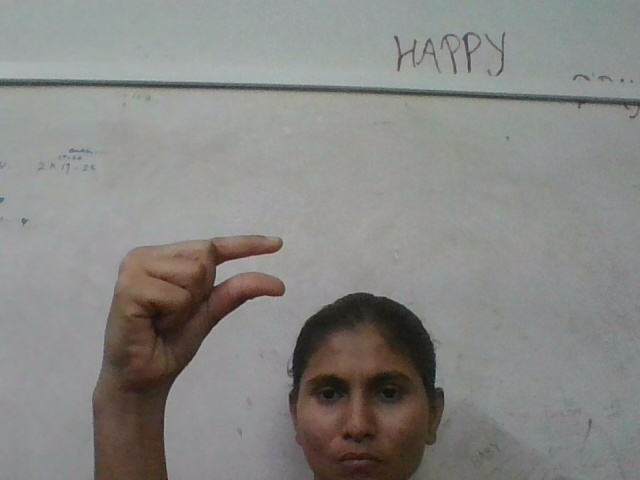No: (97, 230, 288, 400)
